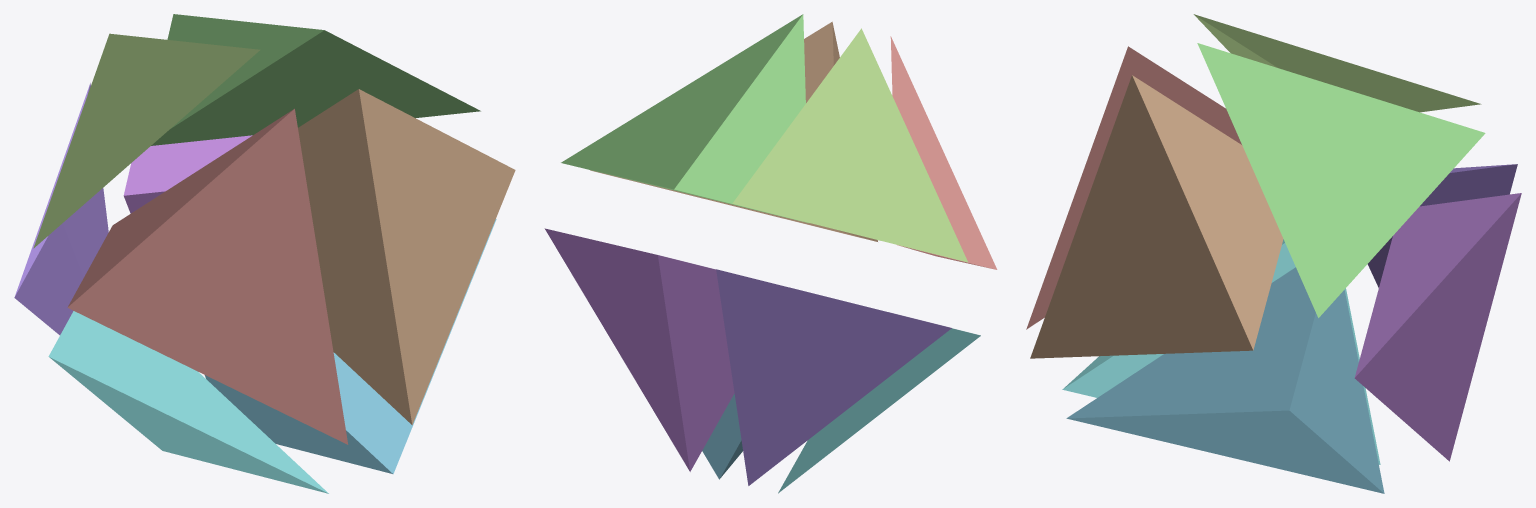
File: example.gltf
The picture shows the model from 3 angles, left to right: view 1: azimuth 30°, elevation 25°; view 2: azimuth 150°, elevation 25°; view 3: azimuth 270°, elevation 25°; orthographic projection. The views are drawn at different scales.
Parts seen in each view (by area): view 1: 16cell; view 2: 16cell; view 3: 16cell.
Part boxes in pixels (left/top/right/bottom): 16cell: left=14, top=14, right=515, bottom=493; 16cell: left=544, top=14, right=997, bottom=493; 16cell: left=1026, top=14, right=1521, bottom=493.
Size of the model in its own units: 1.35 by 1.33 by 1.32.
